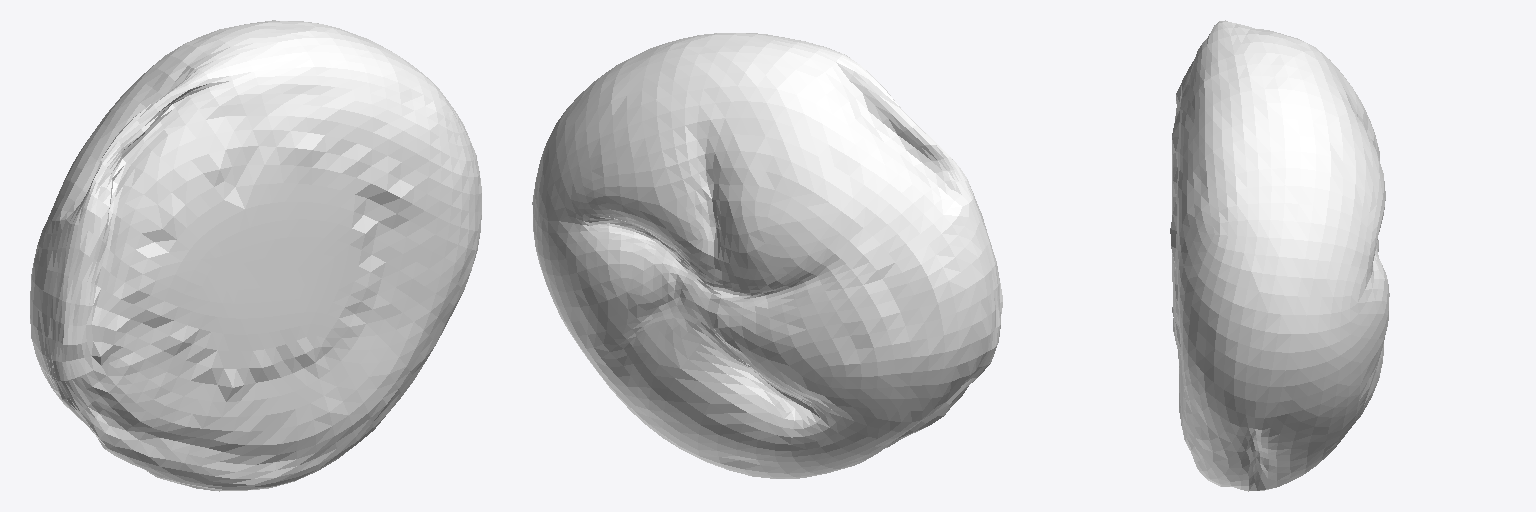
robot.urdf — model.urdf:
<robot name="model.urdf">
  <link name="baseLink">
    <contact>
      <friction_anchor/>
      <lateral_friction value="0.308"/>
      <spinning_friction value="0.001"/>
      <rolling_friction value="0.001"/>
      <contact_cfm value="0.0"/>
      <contact_erp value="1.0"/>
    </contact>
    <inertial>
       <origin rpy="0 0 0" xyz="0.0 0.0 0.0"/>
       <mass value=".0069"/>
       <inertia ixx="1e-3" ixy="0" ixz="0" iyy="1e-3" iyz="0" izz="1e-3"/>
    </inertial>
    <visual>
      <geometry>
        <mesh filename="bread_v2.obj" scale="1 1 1"/>
      </geometry>
      <material name="white">
        <color rgba="1 1 1 1"/>
      </material>
    </visual>
    <collision>
      <geometry>
        <mesh filename="bread_v2.obj" scale="1 1 1"/>
      </geometry>
    </collision>
  </link>
</robot>

--- Facts derived from the render (not from the file) ---
The picture shows the robot from 3 angles, left to right: view 1: azimuth 30°, elevation 25°; view 2: azimuth 150°, elevation 25°; view 3: azimuth 270°, elevation 25°; orthographic projection.
Model model.urdf with 1 links and 0 joints (none), rooted at baseLink, posed all joints at 0.
Links seen in each view (by area): view 1: baseLink; view 2: baseLink; view 3: baseLink.
Link boxes in pixels (x1,y1,x2,y2): baseLink: [30, 20, 481, 491]; baseLink: [532, 33, 1002, 478]; baseLink: [1170, 20, 1389, 491].
Bounding box of the posed robot: 3.78 × 1.67 × 3.6 m (x, y, z).
1 mesh visuals loaded from 1 distinct referenced files (1 OBJ).